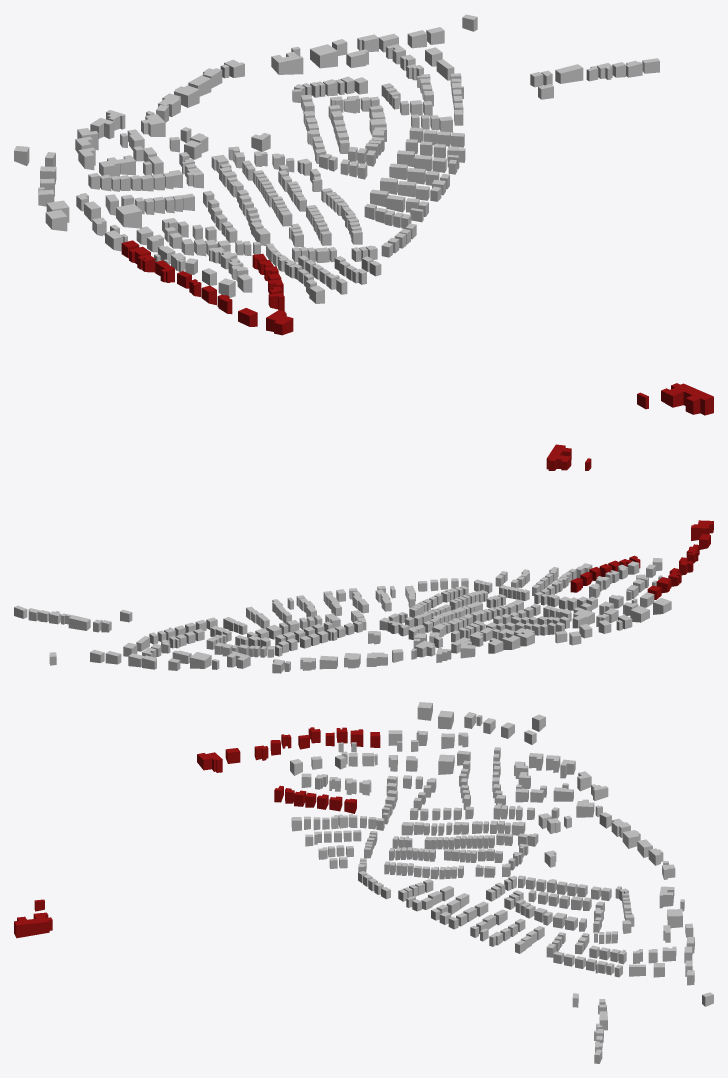
3 views of the same model, one above another, from view 1: azimuth 30°, elevation 25°; view 2: azimuth 150°, elevation 25°; view 3: azimuth 270°, elevation 25° (orthographic). The views are drawn at different scales.
Visible parts, largest first — view 1: stage_1; view 2: stage_1; view 3: stage_1.
Part boxes in pixels (x1=…): stage_1: x1=14, y1=14, x2=713, y2=415; stage_1: x1=14, y1=444, x2=713, y2=673; stage_1: x1=14, y1=702, x2=713, y2=1063.
Size of the model in its own units: 1452 by 219 by 1559.
